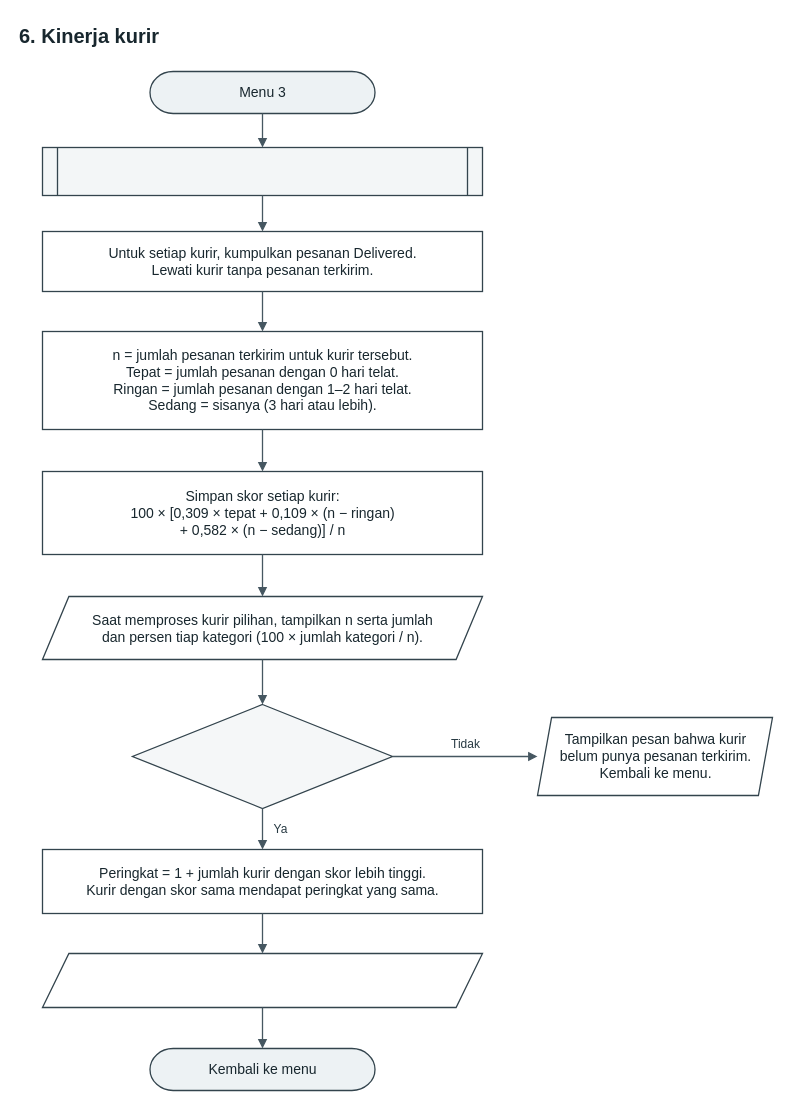
This 794x1108 diagram has some shape labels left out. The centre of each missing label's shape, as x and y in pixels:
Kurir pilihan punya skor?: (262,756)
Pilih nama kurir dengan pilih(): (262,171)
Tampilkan skor dari 100 dan peringkat dari 8 kurir.: (262,980)
